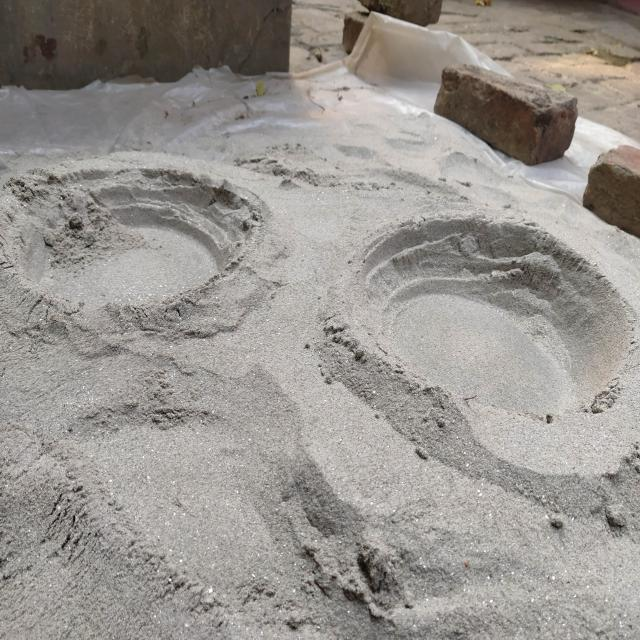C20: (349, 219, 631, 425), (16, 175, 263, 313)
